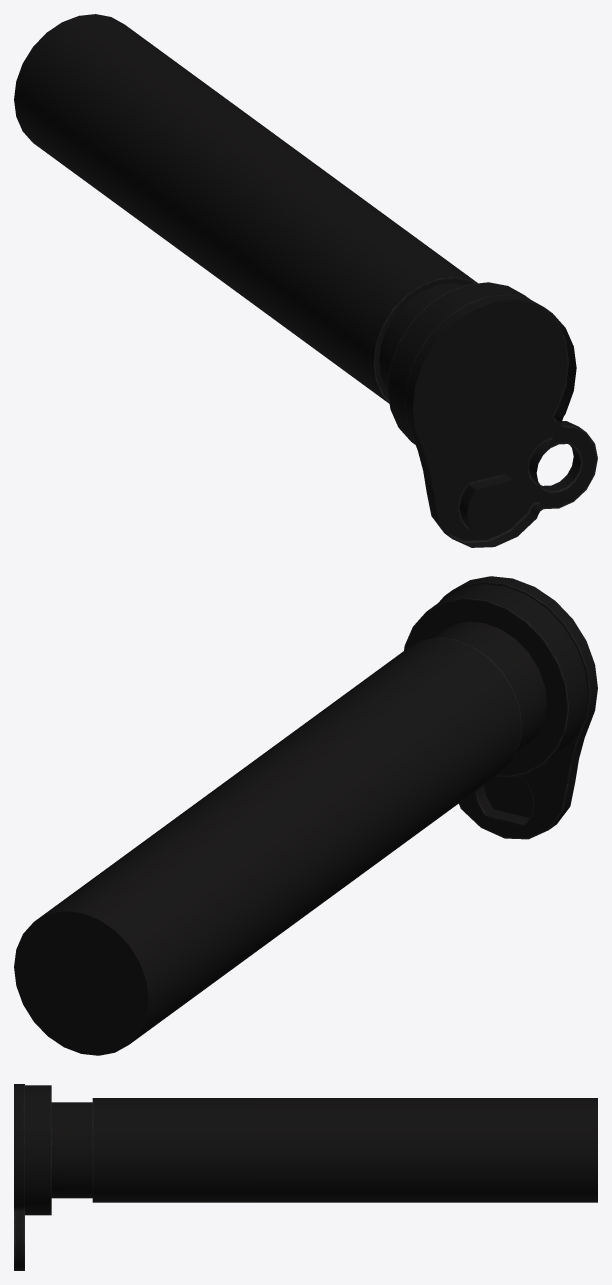
The model's file is M4_StockFront.fbx.
3 renders of one model, top to bottom at view 1: azimuth 30°, elevation 25°; view 2: azimuth 150°, elevation 25°; view 3: azimuth 270°, elevation 25°, orthographic. The views are drawn at different scales.
Visible parts, largest first — view 1: BaseStockFront; view 2: BaseStockFront; view 3: BaseStockFront.
Boxes of the visible parts, box(x1,y1,x2,y2) form: BaseStockFront: box(14, 14, 597, 547); BaseStockFront: box(14, 576, 597, 1055); BaseStockFront: box(14, 1084, 597, 1270).
Size of the model in its own units: 4.04 by 5.1 by 15.7.
1 material, 1 textured.
